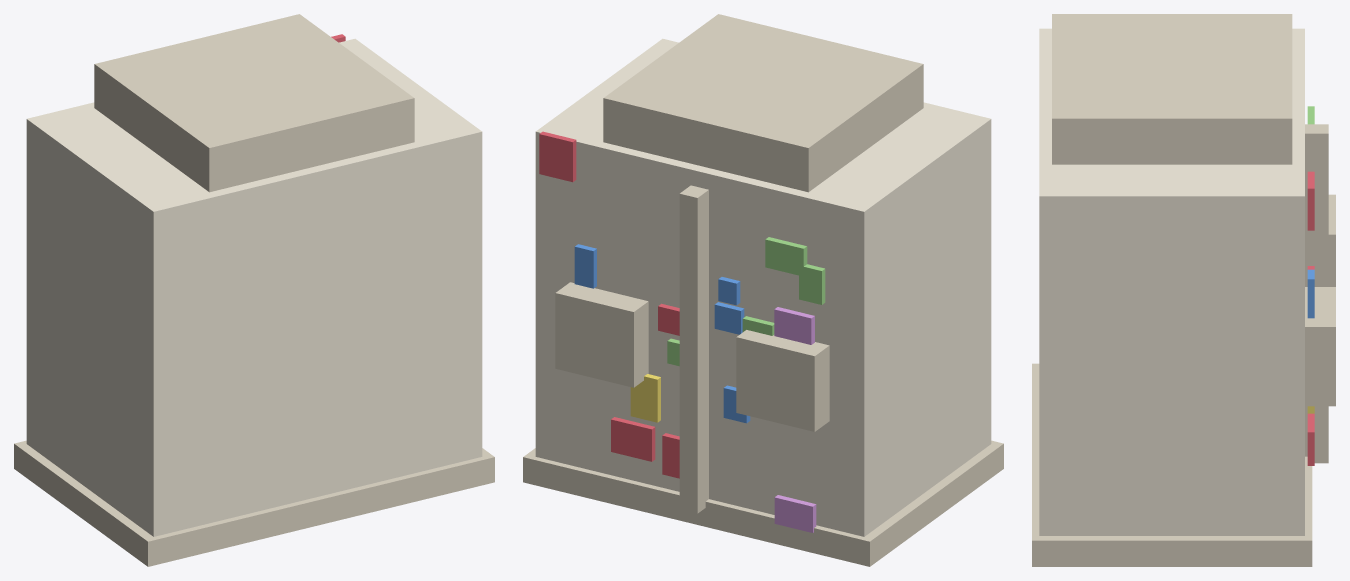
The model's file is pintor_tronco.glb.
The picture shows the model from 3 angles, left to right: view 1: azimuth 30°, elevation 25°; view 2: azimuth 150°, elevation 25°; view 3: azimuth 270°, elevation 25°; orthographic projection. The views are drawn at different scales.
Visible parts, largest first — view 1: pintor_tronco; view 2: pintor_tronco; view 3: pintor_tronco.
Part boxes in pixels (x1,y1,x2,y2): pintor_tronco: [14, 14, 494, 566]; pintor_tronco: [523, 14, 1003, 566]; pintor_tronco: [1032, 14, 1335, 566].
Size of the model in its own units: 0.575 by 0.625 by 0.4175.
